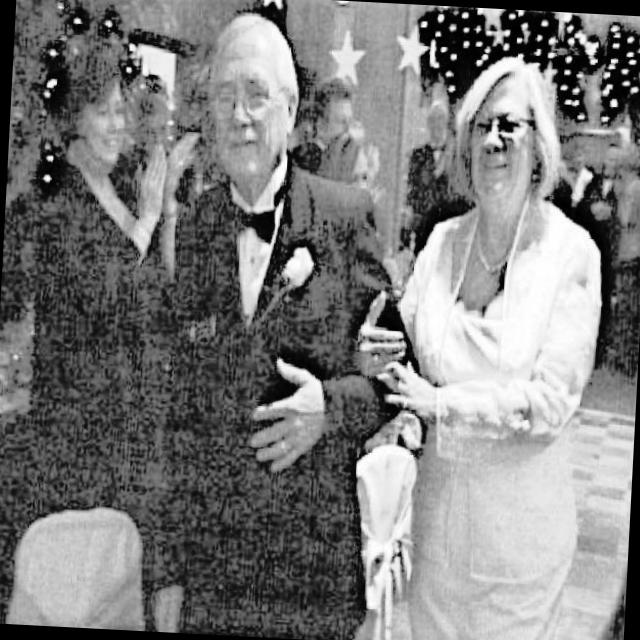Person: (151, 6, 429, 640), (347, 40, 616, 640), (44, 42, 176, 308)
